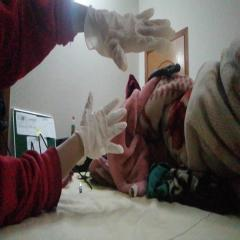gloved: (87, 7, 176, 71), (82, 93, 127, 156)
